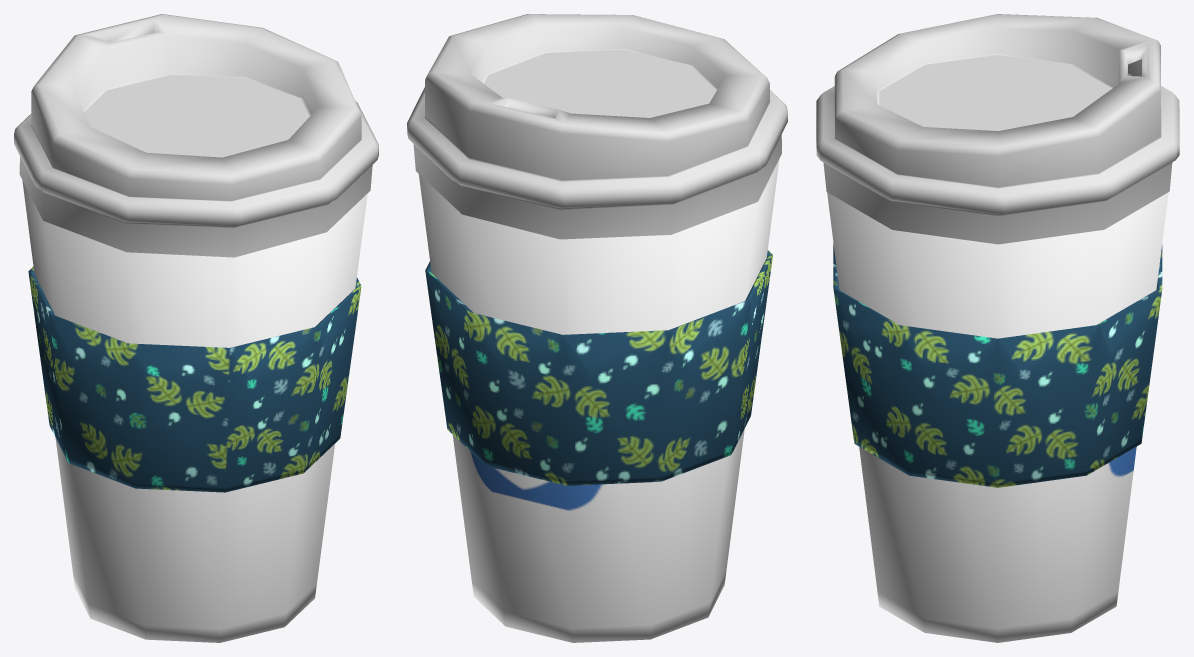
The model's file is Cupofcoffeemodels.fbx.
3 renders of one model, left to right at view 1: azimuth 30°, elevation 25°; view 2: azimuth 150°, elevation 25°; view 3: azimuth 270°, elevation 25°, orthographic. The views are drawn at different scales.
Visible parts, largest first — view 1: Lid, Cupofcoffee, Sleeve; view 2: Cupofcoffee, Lid, Sleeve; view 3: Cupofcoffee, Lid, Sleeve.
Boxes of the visible parts, box(x1,y1,x2,y2) form: Lid: box(14, 14, 378, 257); Cupofcoffee: box(22, 180, 367, 642); Sleeve: box(28, 266, 361, 492); Cupofcoffee: box(418, 159, 779, 642); Lid: box(407, 14, 787, 239); Sleeve: box(425, 250, 772, 485); Cupofcoffee: box(827, 192, 1168, 642); Lid: box(816, 14, 1179, 244); Sleeve: box(833, 243, 1162, 487).
Size of the model in its own units: 0.9823 by 1.52 by 0.9453.
Materials: 2 (1 with a texture image).
